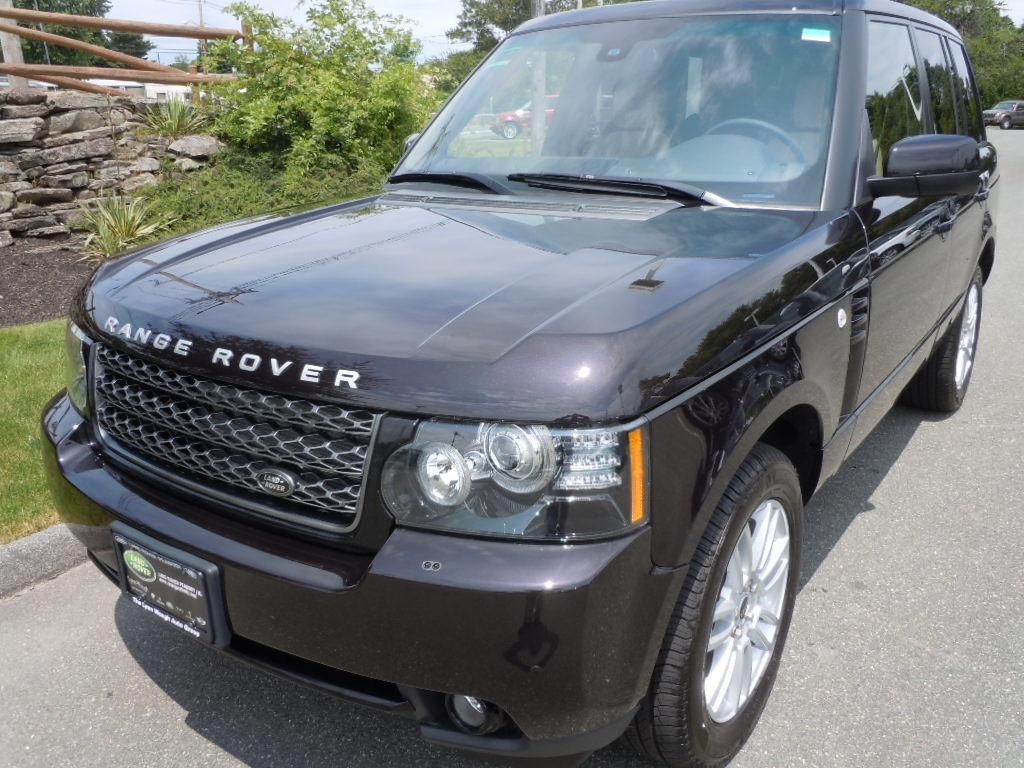range rover: (84, 300, 373, 403)
